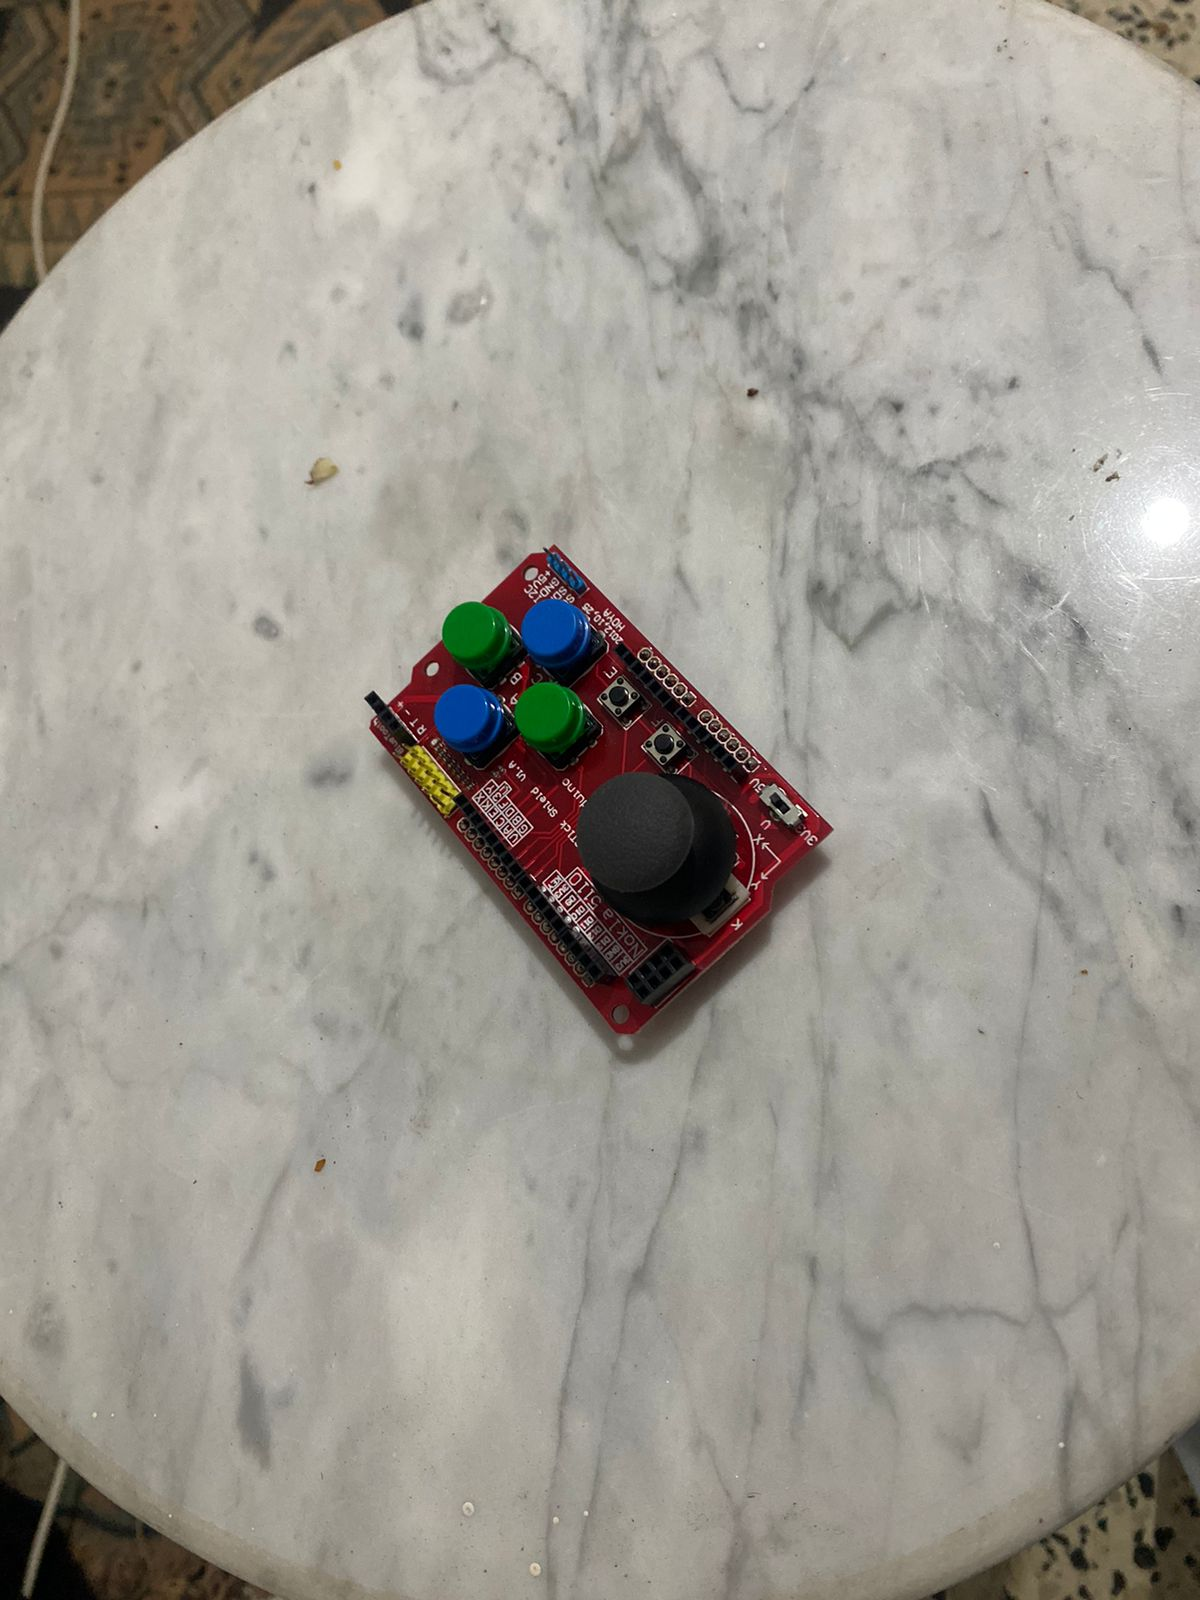Clavier-Joystick: (358, 537, 839, 1044)
